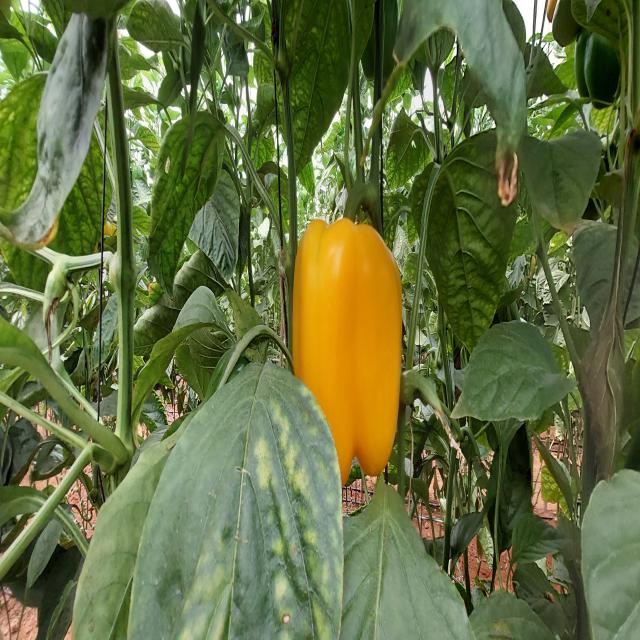Yellow-Ready-to-Harvest: (285, 205, 404, 499)
